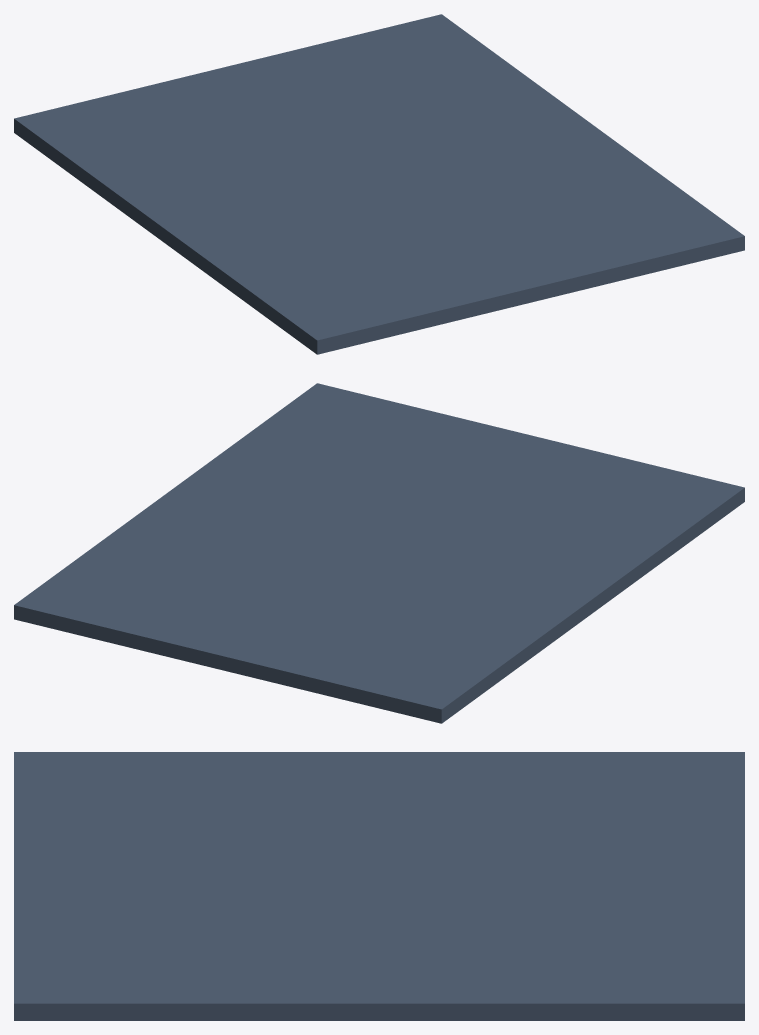
File: floor_004_u_chamber_6_lokalnyy_post_floor.obj
3 renders of one model, top to bottom at view 1: azimuth 30°, elevation 25°; view 2: azimuth 150°, elevation 25°; view 3: azimuth 270°, elevation 25°, orthographic. The views are drawn at different scales.
Visible parts, largest first — view 1: Floor_004_u_chamber_6_lokalnyy_post_floor; view 2: Floor_004_u_chamber_6_lokalnyy_post_floor; view 3: Floor_004_u_chamber_6_lokalnyy_post_floor.
Part boxes in pixels (bbox=[...]): Floor_004_u_chamber_6_lokalnyy_post_floor: bbox=[14, 14, 744, 354]; Floor_004_u_chamber_6_lokalnyy_post_floor: bbox=[14, 383, 744, 723]; Floor_004_u_chamber_6_lokalnyy_post_floor: bbox=[14, 752, 744, 1020].
Size of the model in its own units: 6.27 by 0.2 by 7.7.
